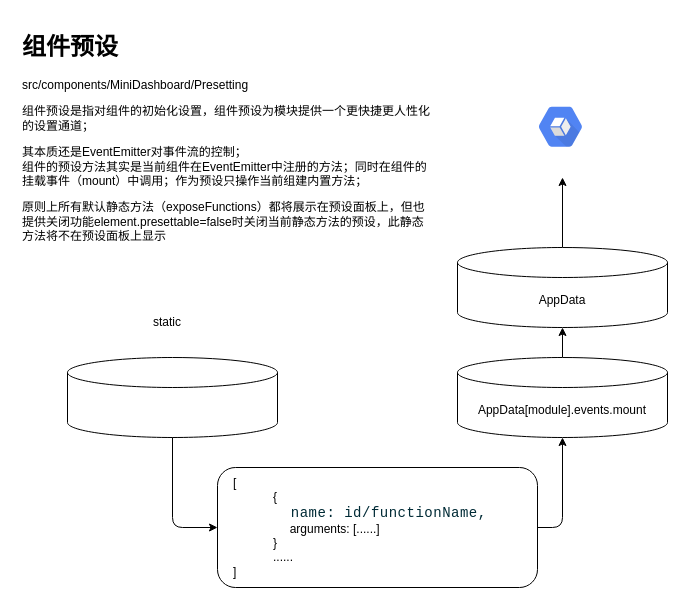
This 685x605 diagram has some shape labels left out. The shapes that lost their labels are listed below. From the top down, each one's centre as x and y in pixels, then its label:
At (560,126): "EventEmitter".
At (172,397): "exportFunctions".
